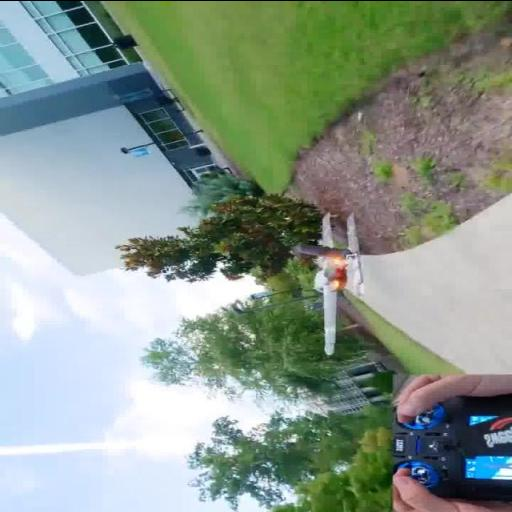uav: (288, 208, 370, 354)
